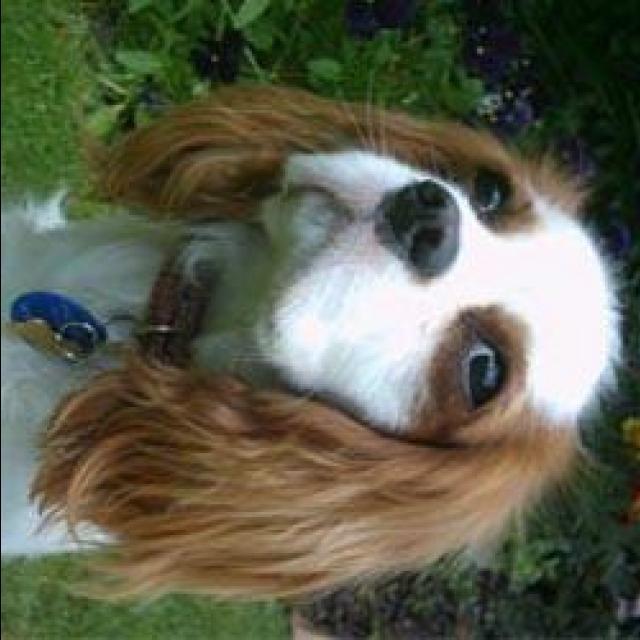blenheim_spaniel: (2, 82, 620, 604)
